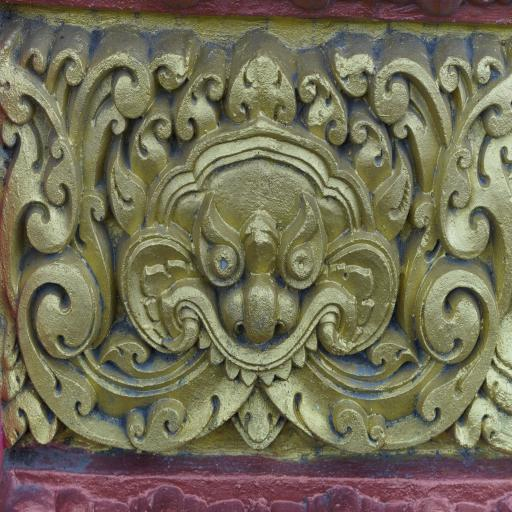la: (2, 64, 111, 444), (417, 76, 512, 472), (230, 55, 297, 139), (297, 66, 347, 146), (171, 70, 230, 134)
than: (119, 135, 409, 416)
